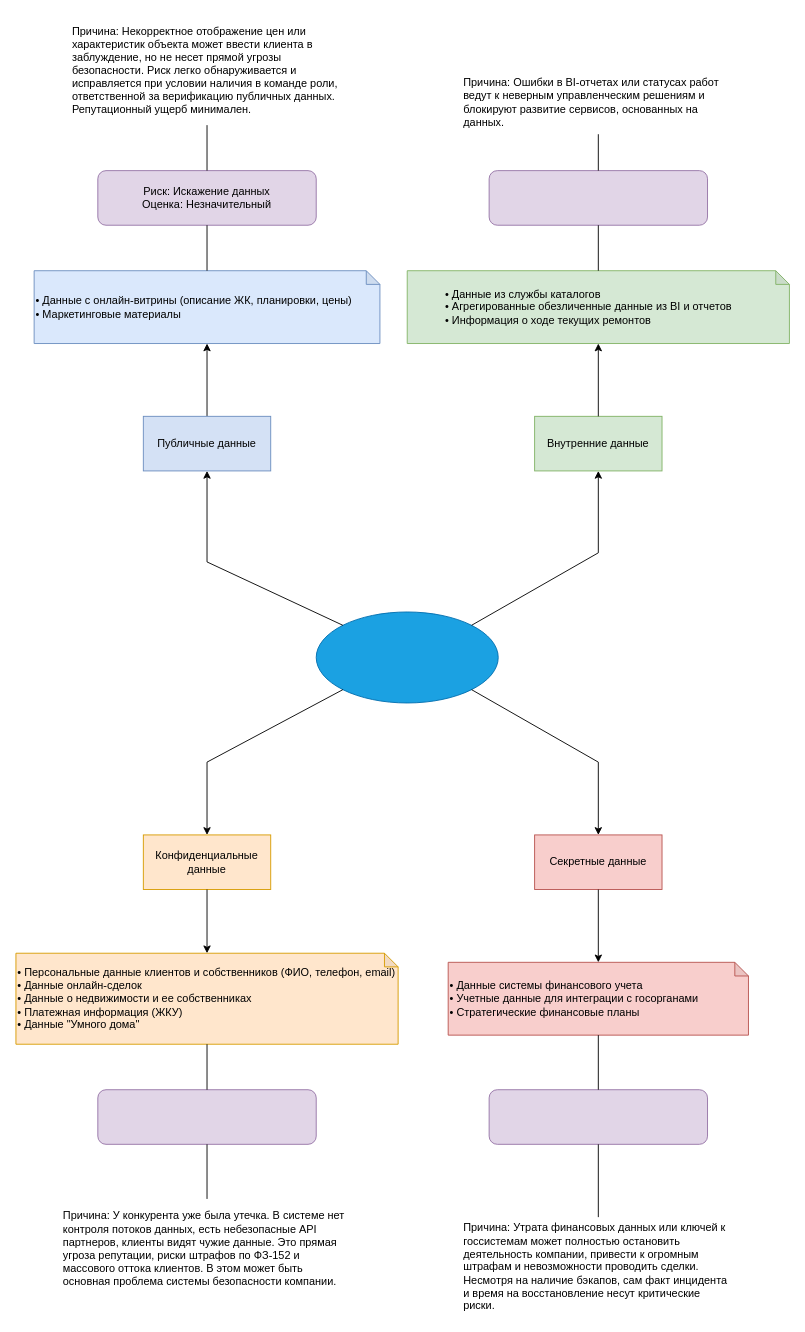
This 805x1332 diagram has some shape labels left out. The centre of each missing label's shape, as x and y in pixels:
"Безопасность данных PropDevelopment" goes at (406,657).
"Риск: Некачественные данные Оценка: Значительный" goes at (598,197).
"Риск: Потеря данных Оценка: Критический" goes at (598,1116).
"Риск: Утечка данных Оценка: Критический" goes at (206,1116).
